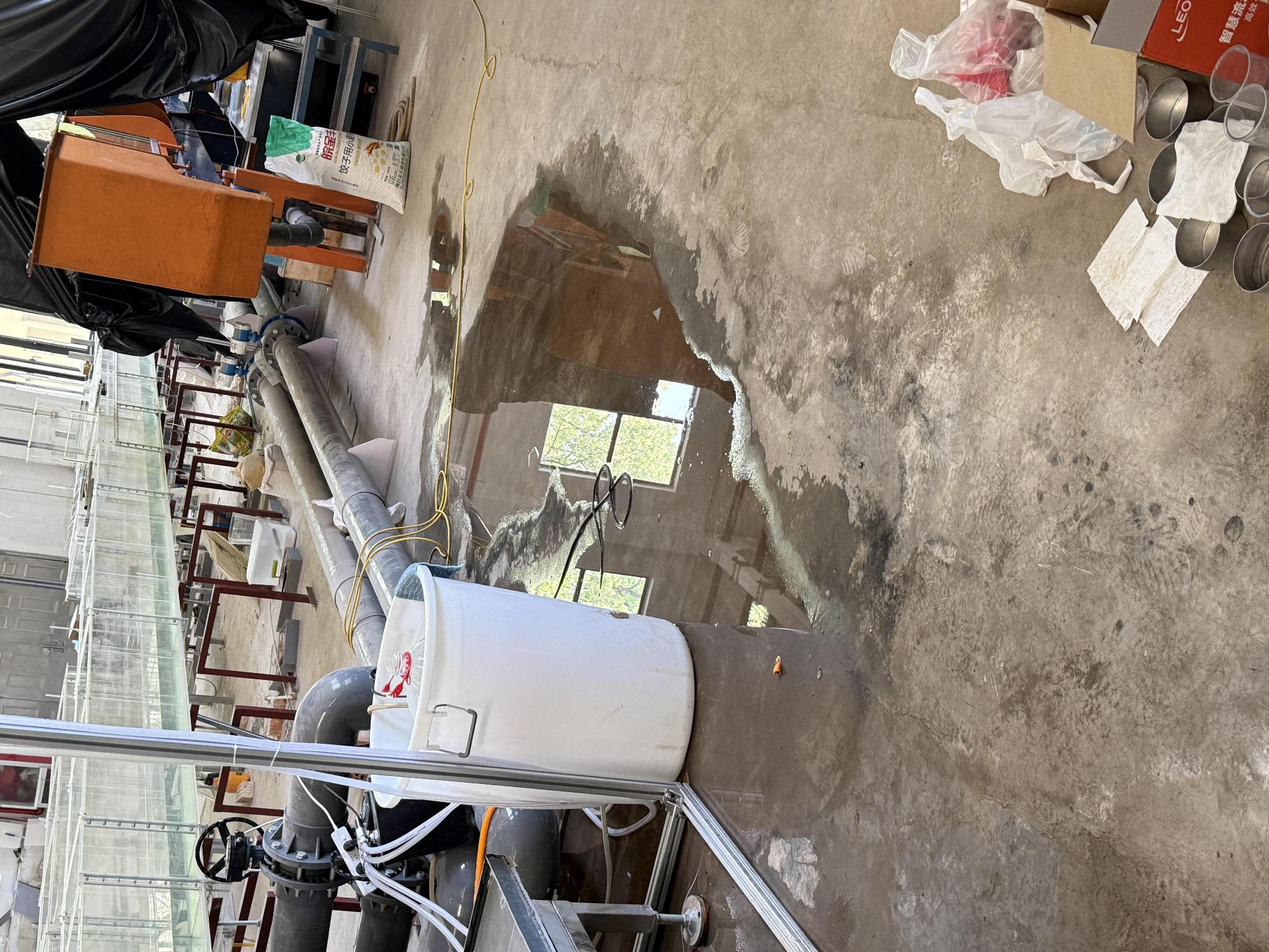water accumulation: (411, 172, 887, 952)
